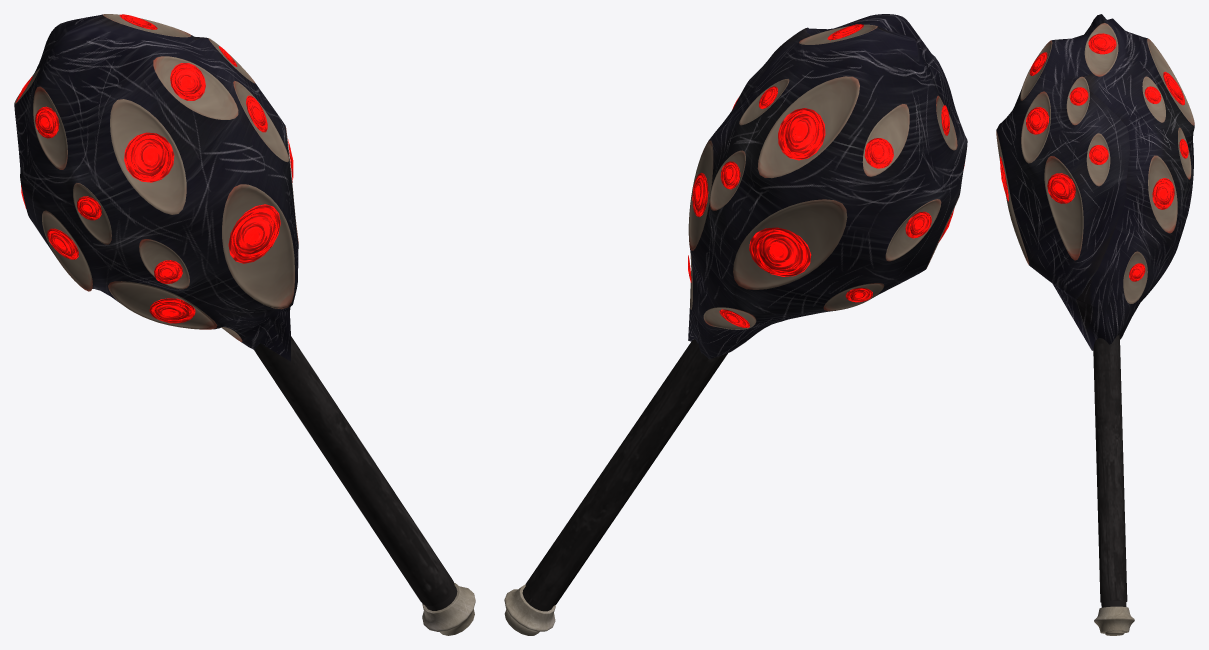
The model's file is e.g.o._red_eyes_-_spider_bud.glb.
3 renders of one model, left to right at view 1: azimuth 30°, elevation 25°; view 2: azimuth 150°, elevation 25°; view 3: azimuth 270°, elevation 25°, orthographic. The views are drawn at different scales.
Parts seen in each view (by area): view 1: Red_Eyes_textured_Red_Eyes_Mallet; view 2: Red_Eyes_textured_Red_Eyes_Mallet; view 3: Red_Eyes_textured_Red_Eyes_Mallet.
Boxes of the visible parts, bbox=[...] form: Red_Eyes_textured_Red_Eyes_Mallet: bbox=[14, 14, 475, 635]; Red_Eyes_textured_Red_Eyes_Mallet: bbox=[504, 14, 967, 635]; Red_Eyes_textured_Red_Eyes_Mallet: bbox=[996, 14, 1194, 635].
Size of the model in its own units: 0.019 by 0.0286 by 0.0104.
1 material, 1 textured.
